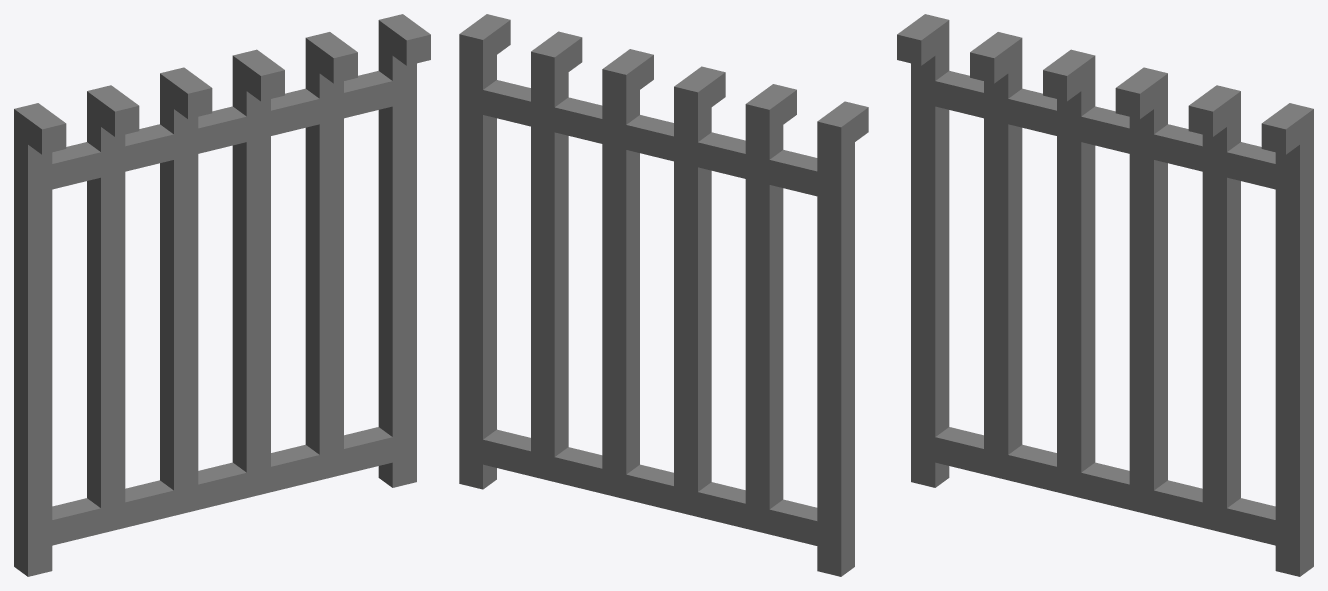
File: obj_fence2.obj
3 views of the same model, side by side, from view 1: azimuth 30°, elevation 25°; view 2: azimuth 150°, elevation 25°; view 3: azimuth 330°, elevation 25° (orthographic).
Bounding box in the file's own units: 1.6 × 1.8 × 0.2.
Materials: 1 (1 with a texture image).
